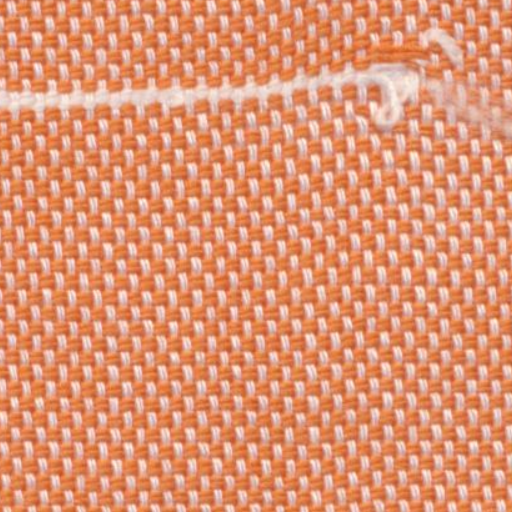DuanSha: (362, 22, 500, 180)
